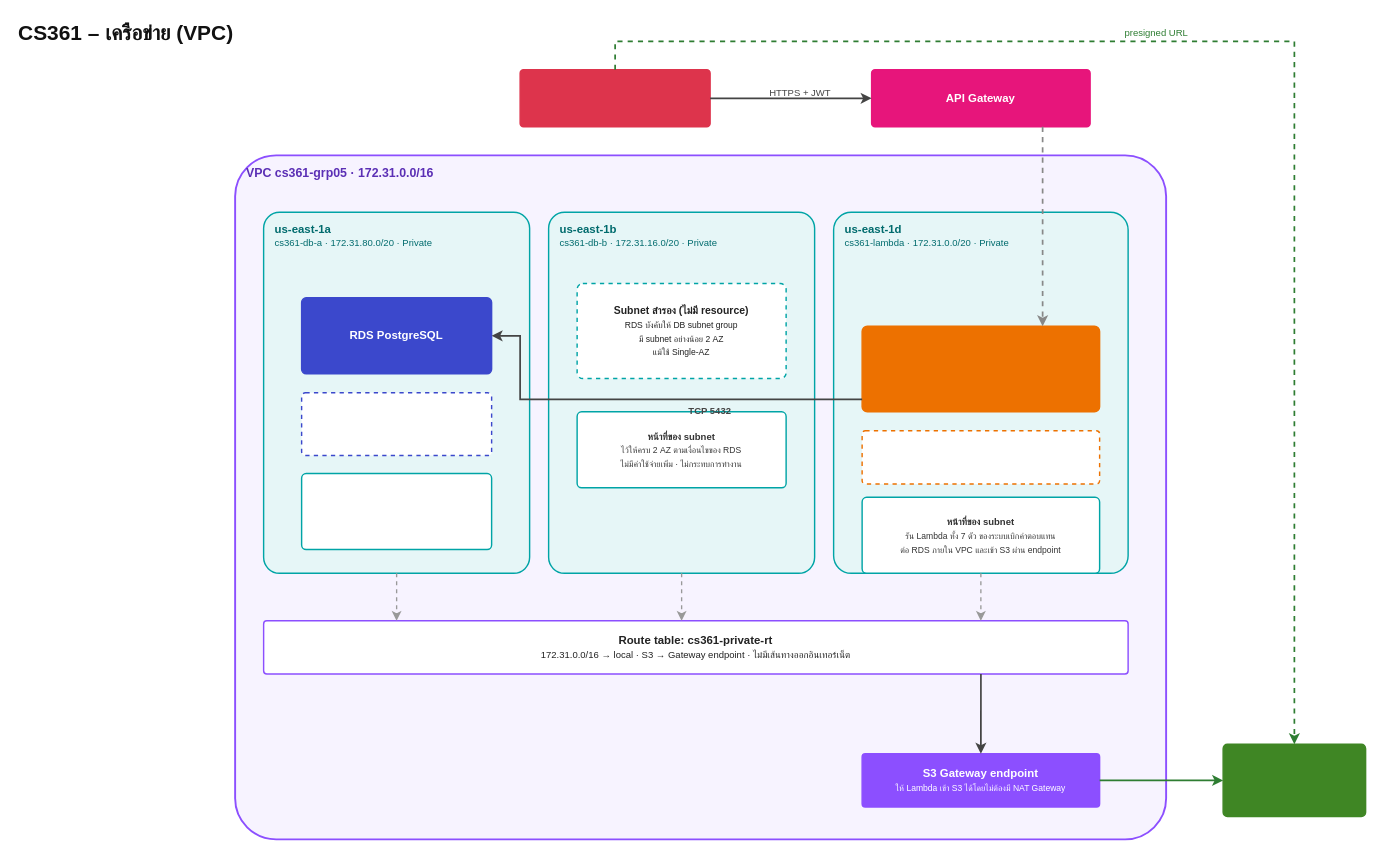
Image size: 1391x856. Some labels were removed from this diagram. The centre of each missing label's shape, as x and y in pixels:
Browser: (614,98)
Lambda × 7: (980,368)
S3: (1294,780)
Security group (Lambda) ส่งออกไป RDS (5432) และ S3 endpoint: (980,457)
Security group (RDS) รับ TCP 5432 จาก SG ของ Lambda เท่านั้น: (396,424)
หน้าที่ของ subnet เก็บฐานข้อมูล RDS PostgreSQL ไม่เปิด public access: (396,511)
